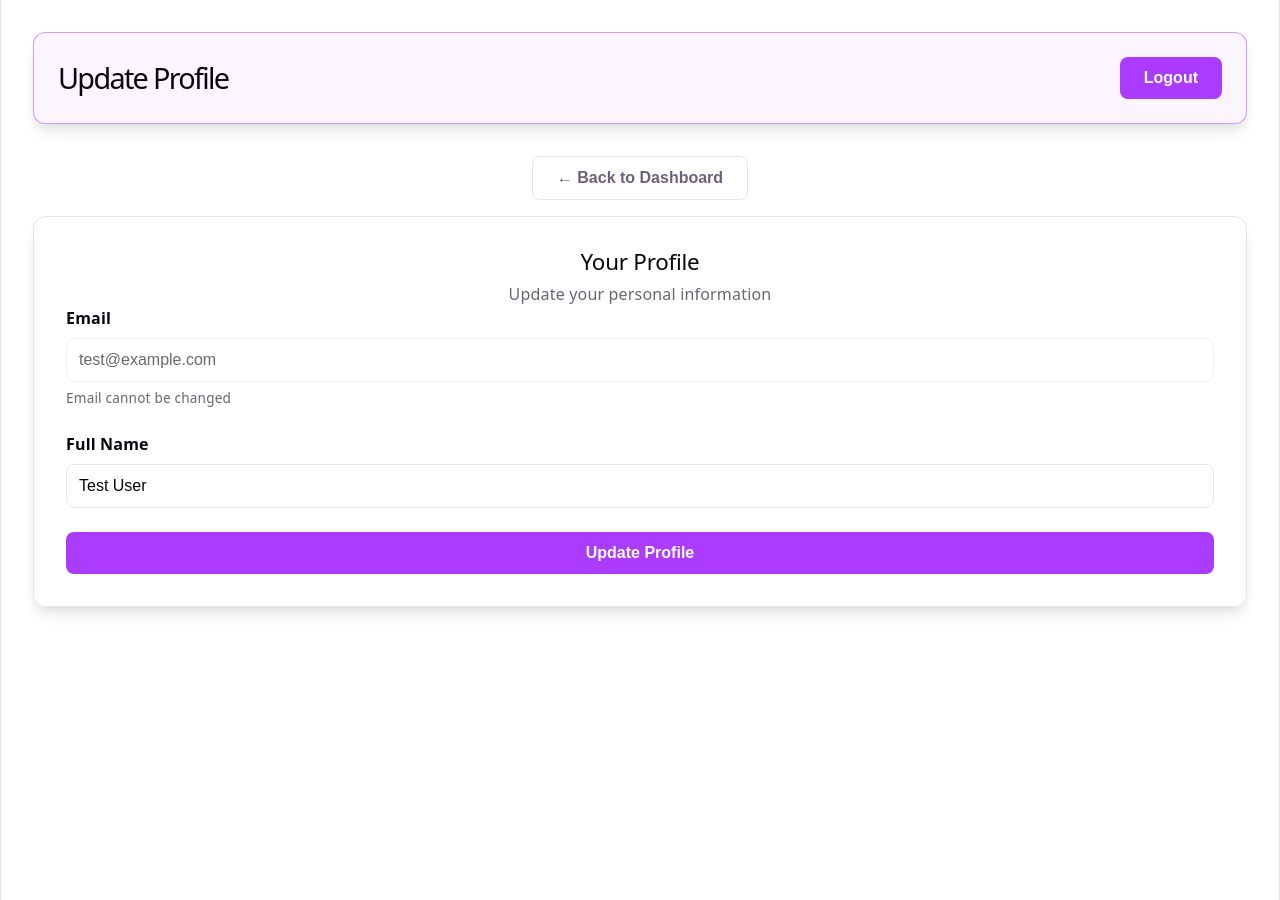
Test case: UpdateProfilePage › should redirect to dashboard after 2 seconds on success
Replace the text in the field labelled "Full Name" with "Updated Name" at (640,486), box [66,464,1214,508]
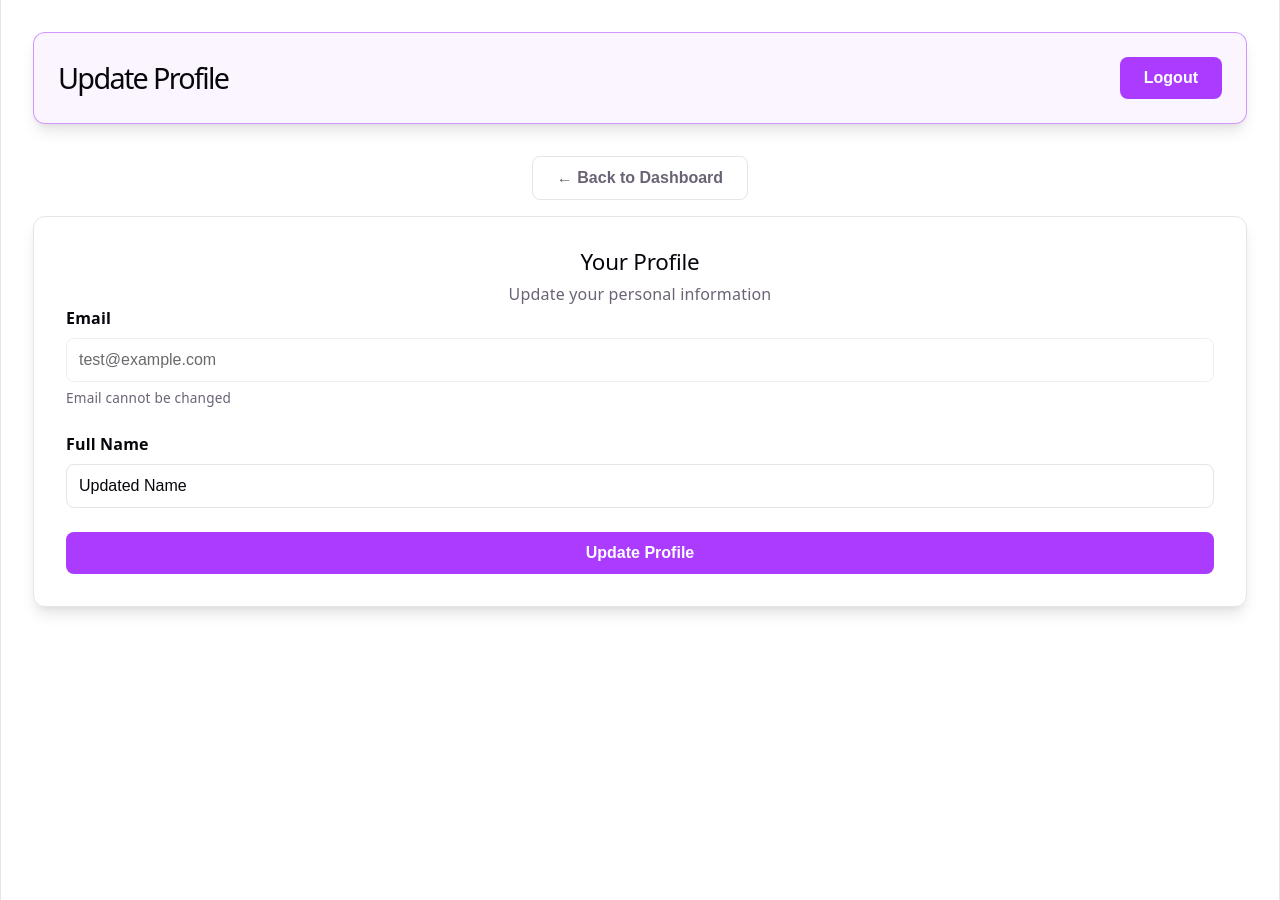
Click the button "Update Profile".
click(640, 553)  # box [66,532,1214,574]
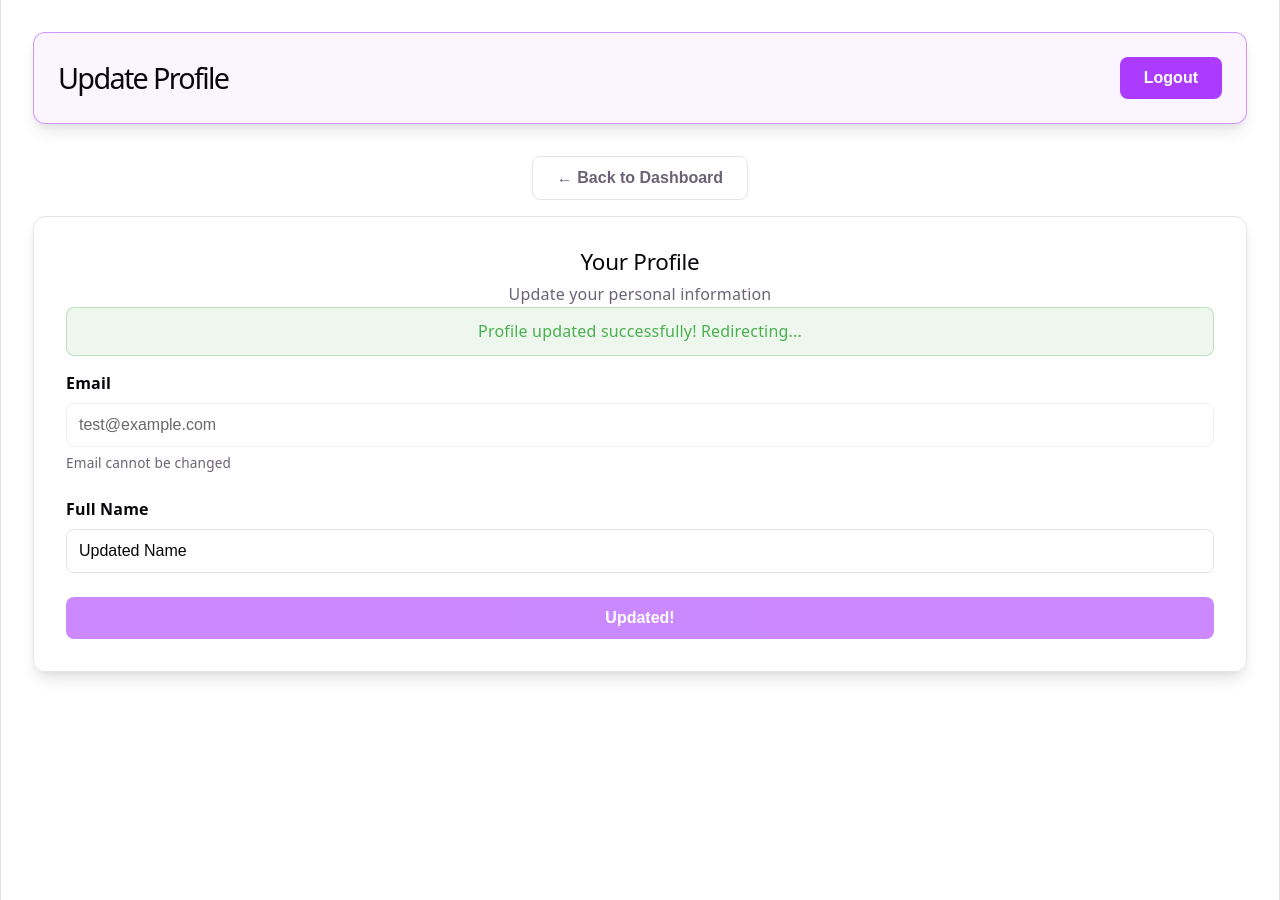
expect the text "Profile updated successfully! Redirecting..." is shown: met, box [66,307,1214,356]
